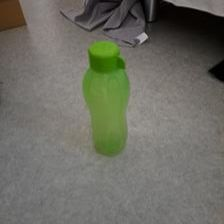bottle: (82, 38, 131, 156)
